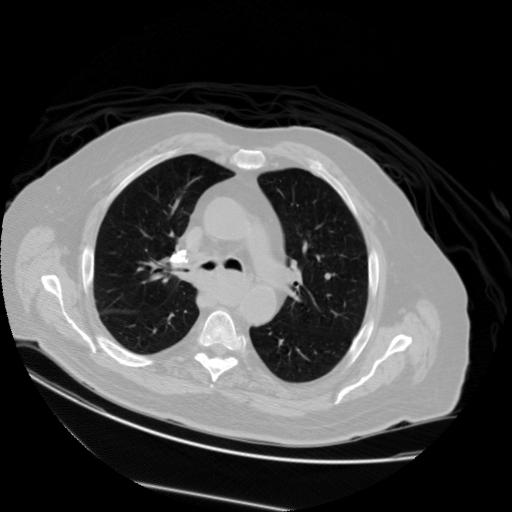nodule: (321, 269, 335, 283)
